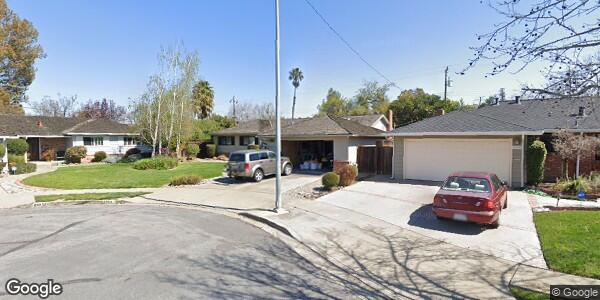Steel_Pole: (265, 1, 293, 216)
